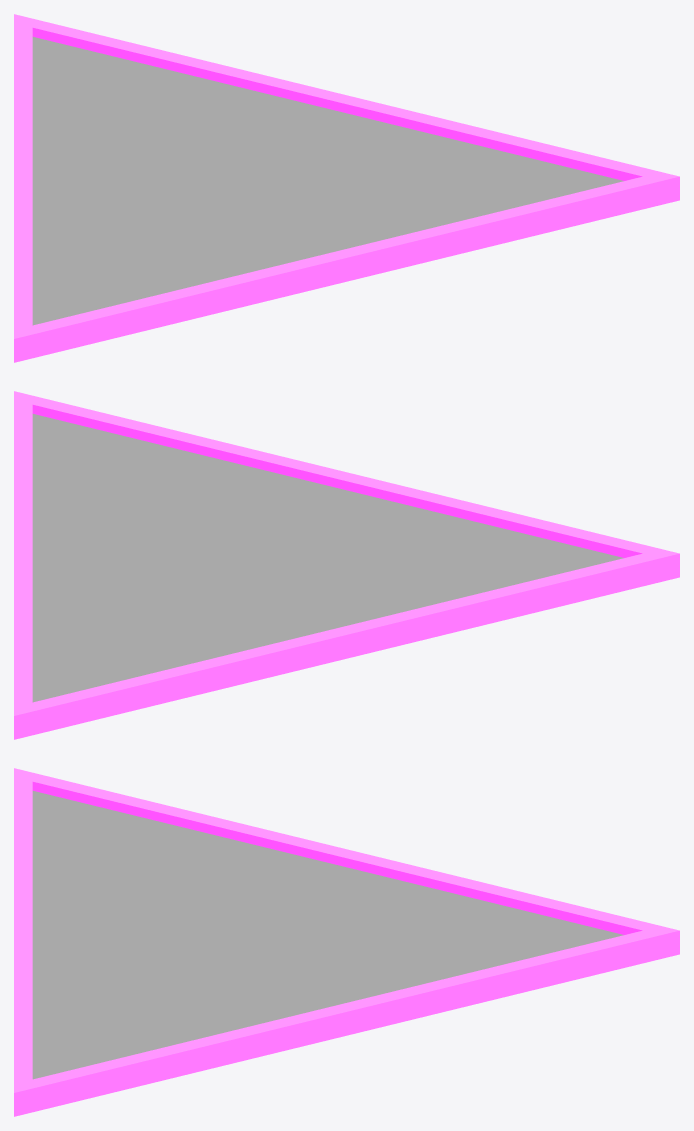
The model's file is SFI0310023.fbx.
3 views of the same model, one above another, from view 1: azimuth 30°, elevation 25°; view 2: azimuth 150°, elevation 25°; view 3: azimuth 270°, elevation 25° (orthographic).
Parts seen in each view (by area): view 1: smSFI0310023; view 2: smSFI0310023; view 3: smSFI0310023.
Boxes of the visible parts, x1,y1,x2,y2 form: smSFI0310023: [14, 14, 679, 362]; smSFI0310023: [14, 391, 679, 739]; smSFI0310023: [14, 768, 679, 1116].
Size of the model in its own units: 173 by 5.93 by 150.
